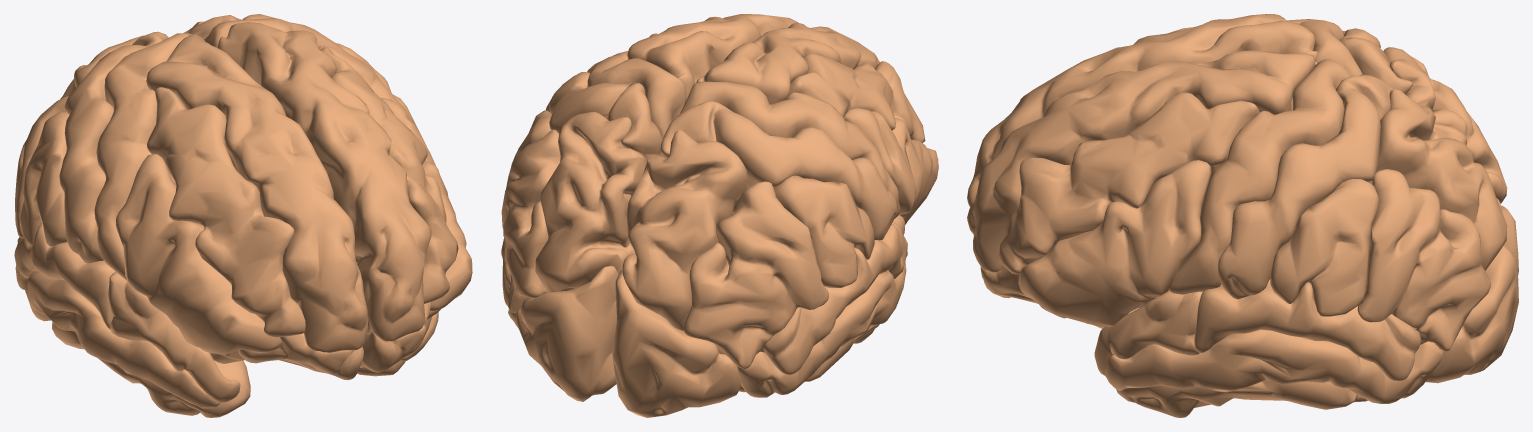
File: 5_Nervous_system (1).glb
The picture shows the model from 3 angles, left to right: view 1: azimuth 30°, elevation 25°; view 2: azimuth 150°, elevation 25°; view 3: azimuth 270°, elevation 25°; orthographic projection. The views are drawn at different scales.
Parts seen in each view (by area): view 1: Superior frontal gyrus.l.001, Superior frontal gyrus.r.001, Middle frontal gyrus.r.001, Inferior frontal gyrus.r.001, Precentral gyrus.r.001, Postcentral gyrus.r.001, Middle temporal gyrus.r.001, Middle frontal gyrus.l.001, Temporal operculum.r.001, Supramarginal gyrus.r, Superior temporal gyrus.r.001, Orbital part of inferior frontal gyrus.r (+7 smaller); view 2: Inferior parietal lobule.r.001, Superior parietal lobule.l.001, Superior parietal lobule.l, Occipital lobe.r.001, Postcentral gyrus.r.001, Occipital lobe.l.001, Superior frontal gyrus.r.001, Supramarginal gyrus.r, Inferior parietal lobule.l.001, Precentral gyrus.r.001, Superior frontal gyrus.l.001, Middle frontal gyrus.r.001 (+8 smaller); view 3: Superior frontal gyrus.l.001, Middle frontal gyrus.l.001, Inferior frontal gyrus.l.001, Inferior parietal lobule.l.001, Middle temporal gyrus.l.001, Postcentral gyrus.l.001, Precentral gyrus.l.001, Superior frontal gyrus.r.001, Supramarginal gyrus.l, Superior parietal lobule.l, Superior temporal gyrus.l.001, Occipital lobe.l.001 (+7 smaller).
Boxes of the visible parts, left/top/right/bottom form: Superior frontal gyrus.l.001: left=217, top=22, right=431, bottom=341; Superior frontal gyrus.r.001: left=146, top=34, right=368, bottom=352; Middle frontal gyrus.r.001: left=147, top=87, right=305, bottom=337; Inferior frontal gyrus.r.001: left=115, top=154, right=281, bottom=354; Precentral gyrus.r.001: left=94, top=33, right=191, bottom=280; Postcentral gyrus.r.001: left=59, top=31, right=168, bottom=263; Middle temporal gyrus.r.001: left=25, top=271, right=220, bottom=408; Middle frontal gyrus.l.001: left=320, top=47, right=458, bottom=303; Temporal operculum.r.001: left=108, top=271, right=240, bottom=402; Supramarginal gyrus.r: left=20, top=112, right=69, bottom=246; Superior temporal gyrus.r.001: left=14, top=224, right=115, bottom=329; Orbital part of inferior frontal gyrus.r: left=209, top=333, right=363, bottom=379; Inferior parietal lobule.r.001: left=683, top=181, right=828, bottom=369; Superior parietal lobule.l.001: left=622, top=130, right=749, bottom=330; Superior parietal lobule.l: left=535, top=112, right=647, bottom=292; Occipital lobe.r.001: left=612, top=269, right=740, bottom=417; Postcentral gyrus.r.001: left=660, top=100, right=897, bottom=240; Occipital lobe.l.001: left=516, top=265, right=618, bottom=401; Superior frontal gyrus.r.001: left=696, top=23, right=879, bottom=104; Supramarginal gyrus.r: left=773, top=175, right=874, bottom=287; Inferior parietal lobule.l.001: left=501, top=129, right=560, bottom=312; Precentral gyrus.r.001: left=680, top=81, right=900, bottom=218; Superior frontal gyrus.l.001: left=627, top=14, right=798, bottom=100; Middle frontal gyrus.r.001: left=786, top=53, right=925, bottom=142; Superior frontal gyrus.l.001: left=967, top=50, right=1317, bottom=272; Middle frontal gyrus.l.001: left=999, top=92, right=1259, bottom=274; Inferior frontal gyrus.l.001: left=1018, top=160, right=1211, bottom=326; Inferior parietal lobule.l.001: left=1357, top=169, right=1490, bottom=351; Middle temporal gyrus.l.001: left=1104, top=329, right=1443, bottom=403; Postcentral gyrus.l.001: left=1218, top=74, right=1393, bottom=299; Precentral gyrus.l.001: left=1168, top=59, right=1350, bottom=294; Superior frontal gyrus.r.001: left=967, top=14, right=1317, bottom=207; Supramarginal gyrus.l: left=1270, top=179, right=1378, bottom=316; Superior parietal lobule.l: left=1368, top=89, right=1507, bottom=270; Superior temporal gyrus.l.001: left=1194, top=279, right=1420, bottom=380; Occipital lobe.l.001: left=1425, top=245, right=1518, bottom=383.
Bounding box in the file's own units: 0.1369 × 0.1134 × 0.1747.
